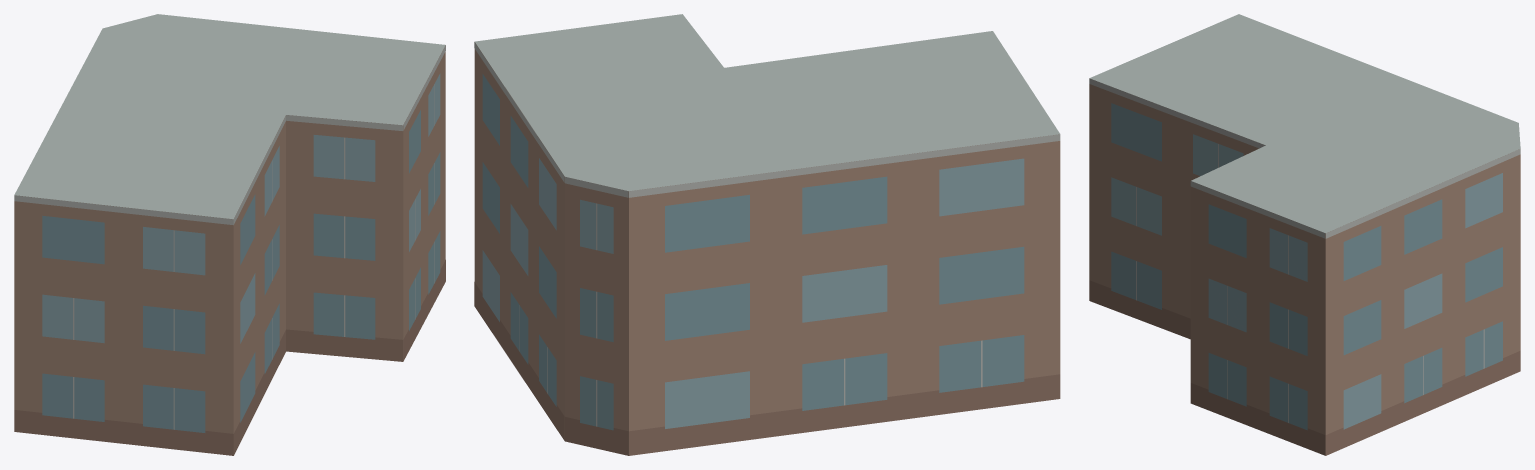
File: survey-upis-32717468.glb
The picture shows the model from 3 angles, left to right: view 1: azimuth 30°, elevation 25°; view 2: azimuth 150°, elevation 25°; view 3: azimuth 270°, elevation 25°; orthographic projection. The views are drawn at different scales.
Parts seen in each view (by area): view 1: survey-upis-32717468.tmp; view 2: survey-upis-32717468.tmp; view 3: survey-upis-32717468.tmp.
Part boxes in pixels (x1,y1,x2,y2): survey-upis-32717468.tmp: (14, 14, 445, 455); survey-upis-32717468.tmp: (474, 14, 1060, 455); survey-upis-32717468.tmp: (1089, 14, 1520, 455).
Size of the model in its own units: 20.48 by 9.69 by 17.03.
